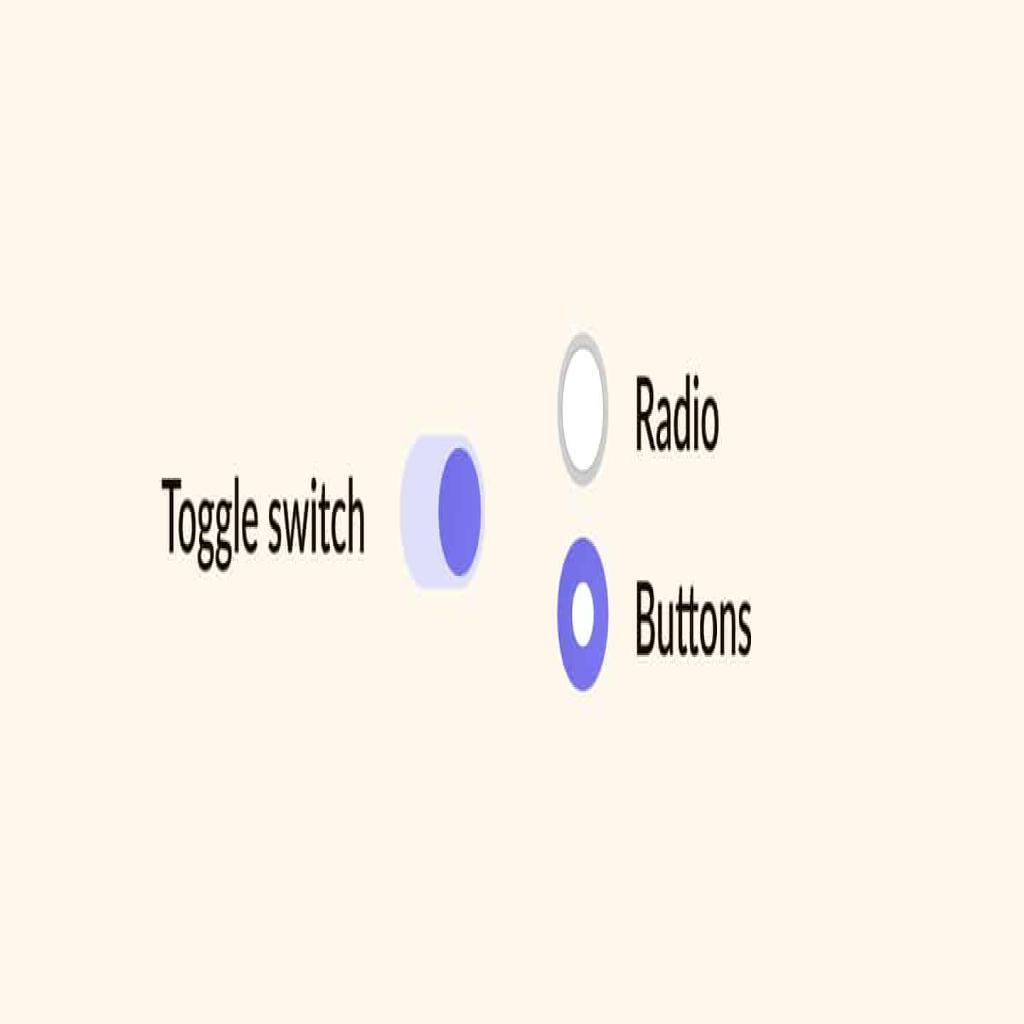label: (156, 469, 372, 564), (633, 575, 758, 664), (633, 370, 725, 457)
radio: (549, 333, 618, 491), (552, 533, 619, 690)
switch: (399, 434, 492, 587)
